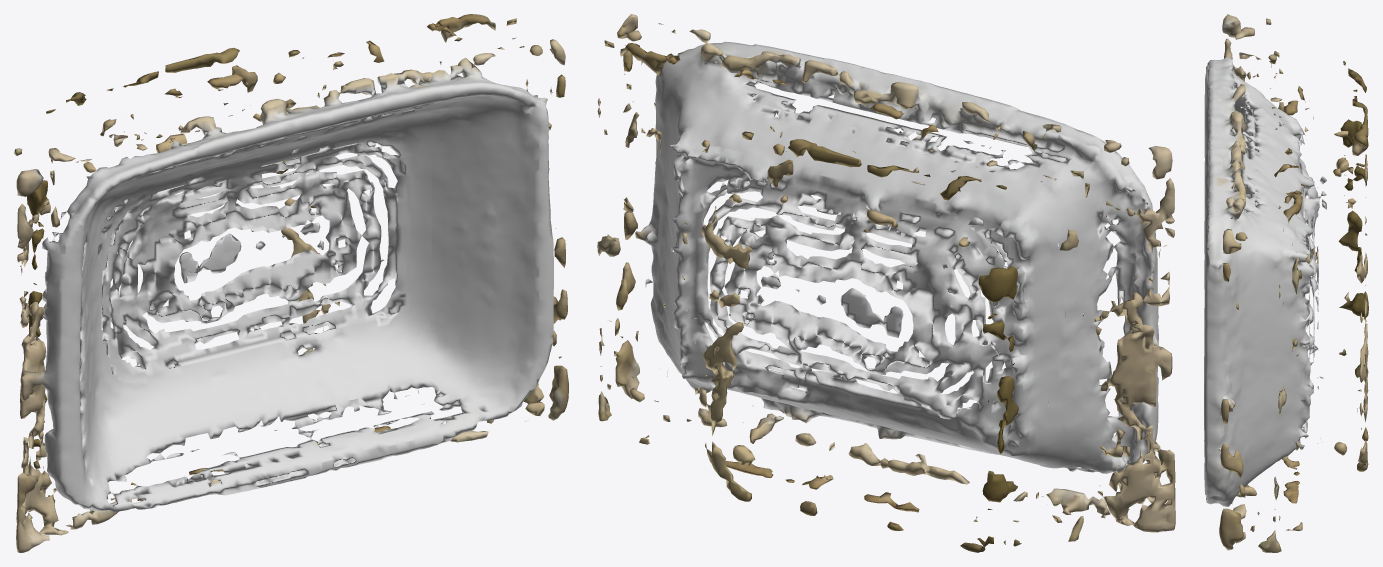
Rendered from soap.glb.
3 views of the same model, side by side, from view 1: azimuth 30°, elevation 25°; view 2: azimuth 150°, elevation 25°; view 3: azimuth 270°, elevation 25° (orthographic). The views are drawn at different scales.
Bounding box in the file's own units: 0.9973 × 0.6861 × 0.3073.
